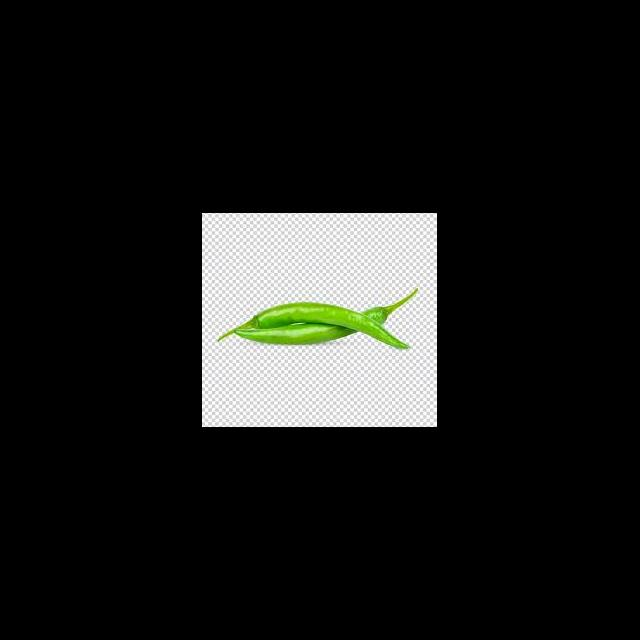chili_pepper: (260, 305, 411, 349), (242, 323, 354, 345)
